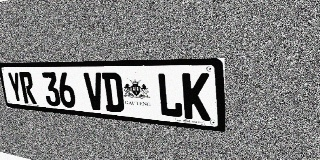3: (42, 72, 61, 107)
6: (56, 72, 77, 108)
D: (102, 72, 125, 113)
K: (182, 73, 211, 121)
L: (156, 73, 183, 118)
R: (19, 72, 37, 104)
V: (83, 72, 105, 111)
Y: (7, 72, 24, 103)
